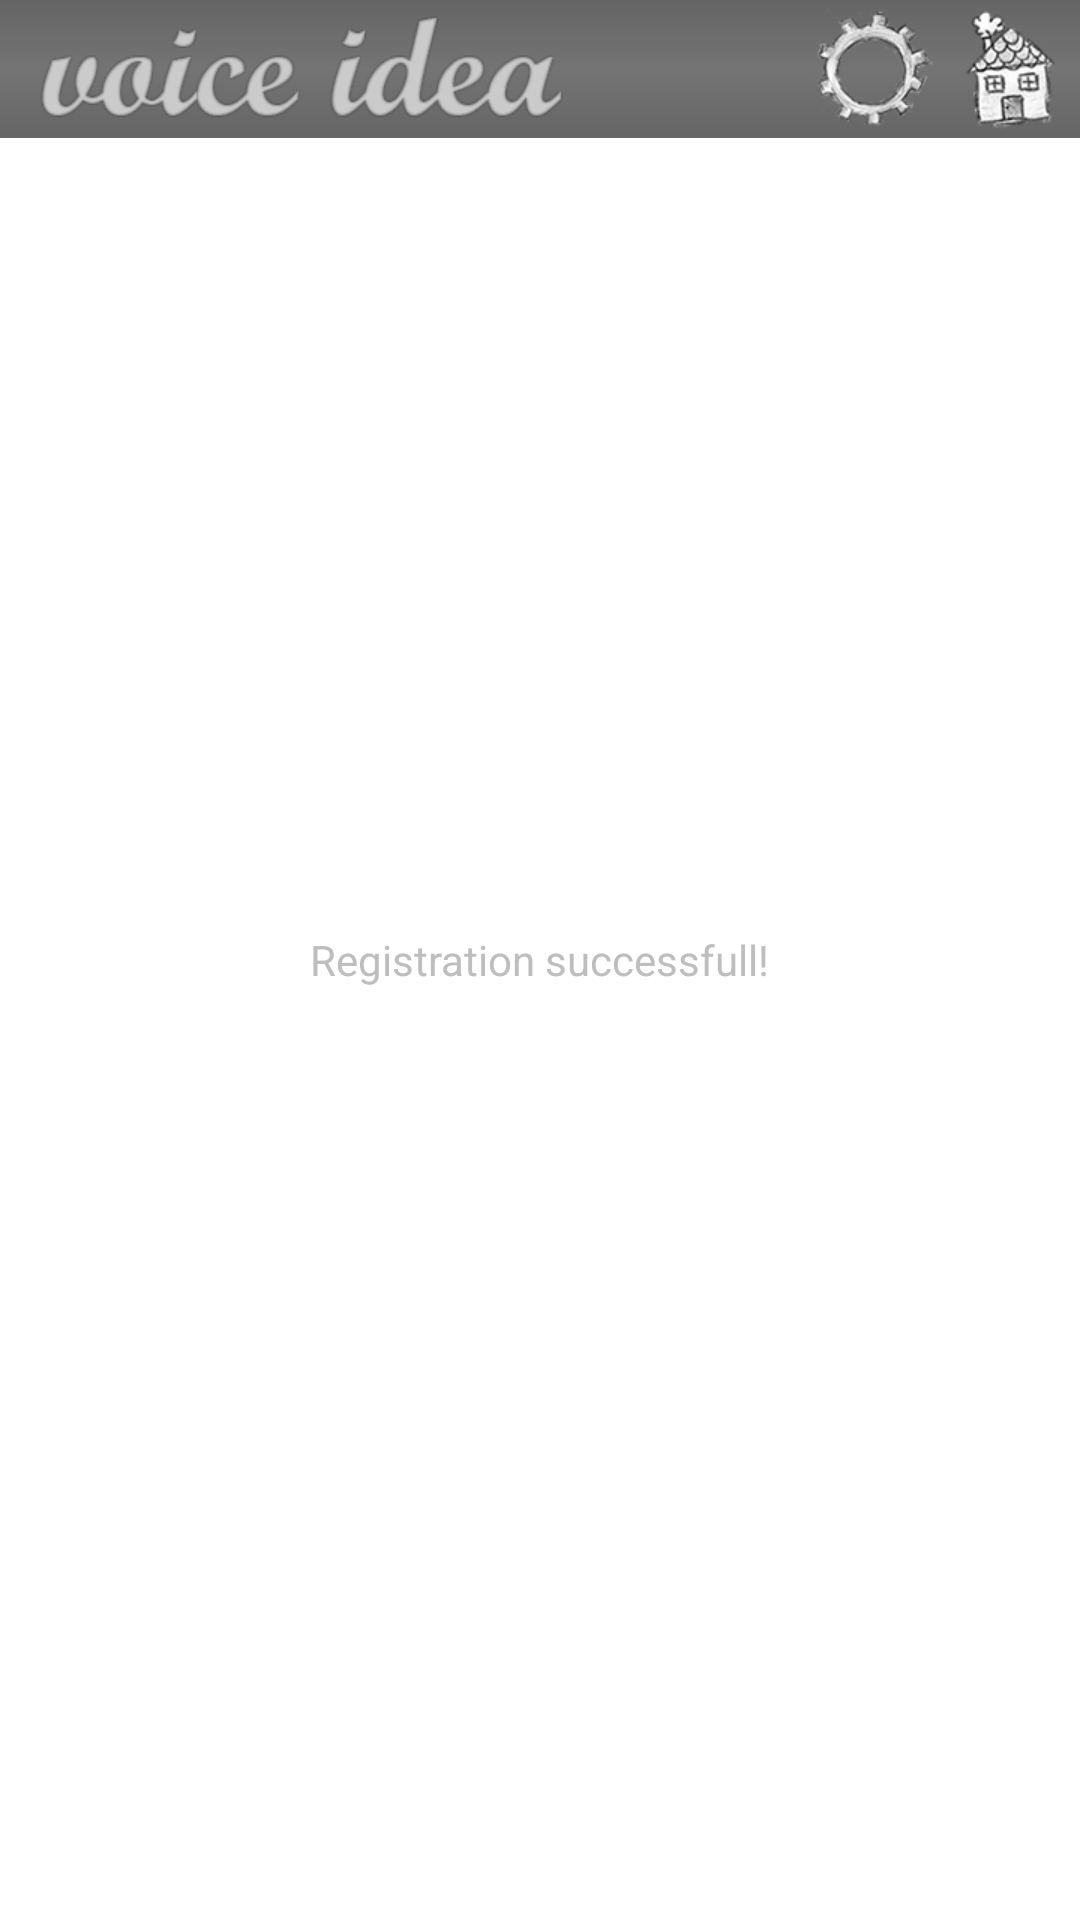

Icons on this 1080px×1920px Android screen, each with its box as (x1, y1, x2, y2):
configuration: (818, 12, 933, 125)
home: (968, 12, 1052, 127)
